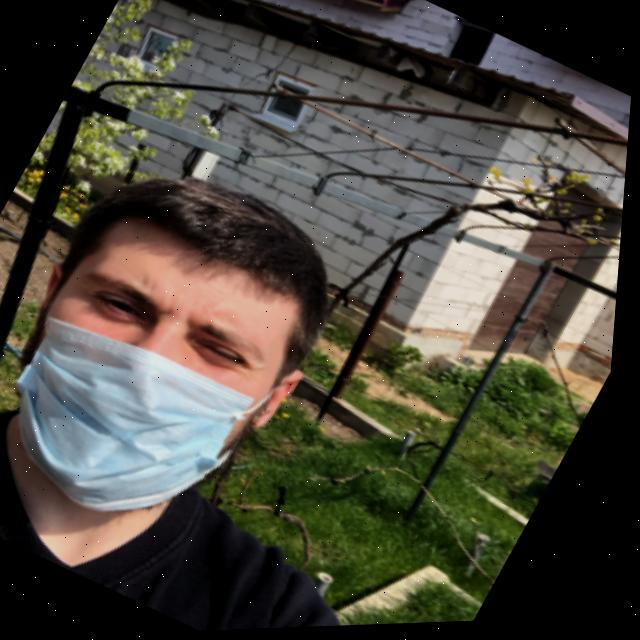Mask: (0, 256, 308, 550)
